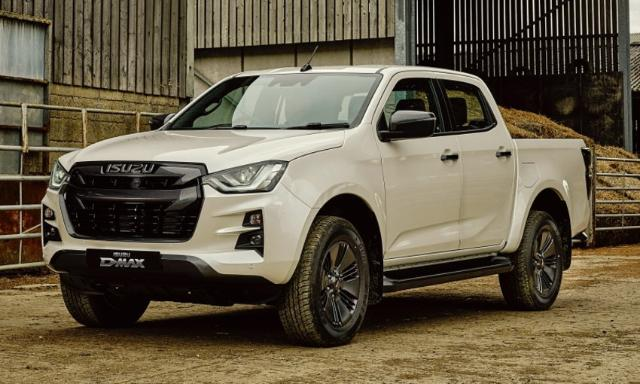pickup-truck: (39, 63, 592, 347)
